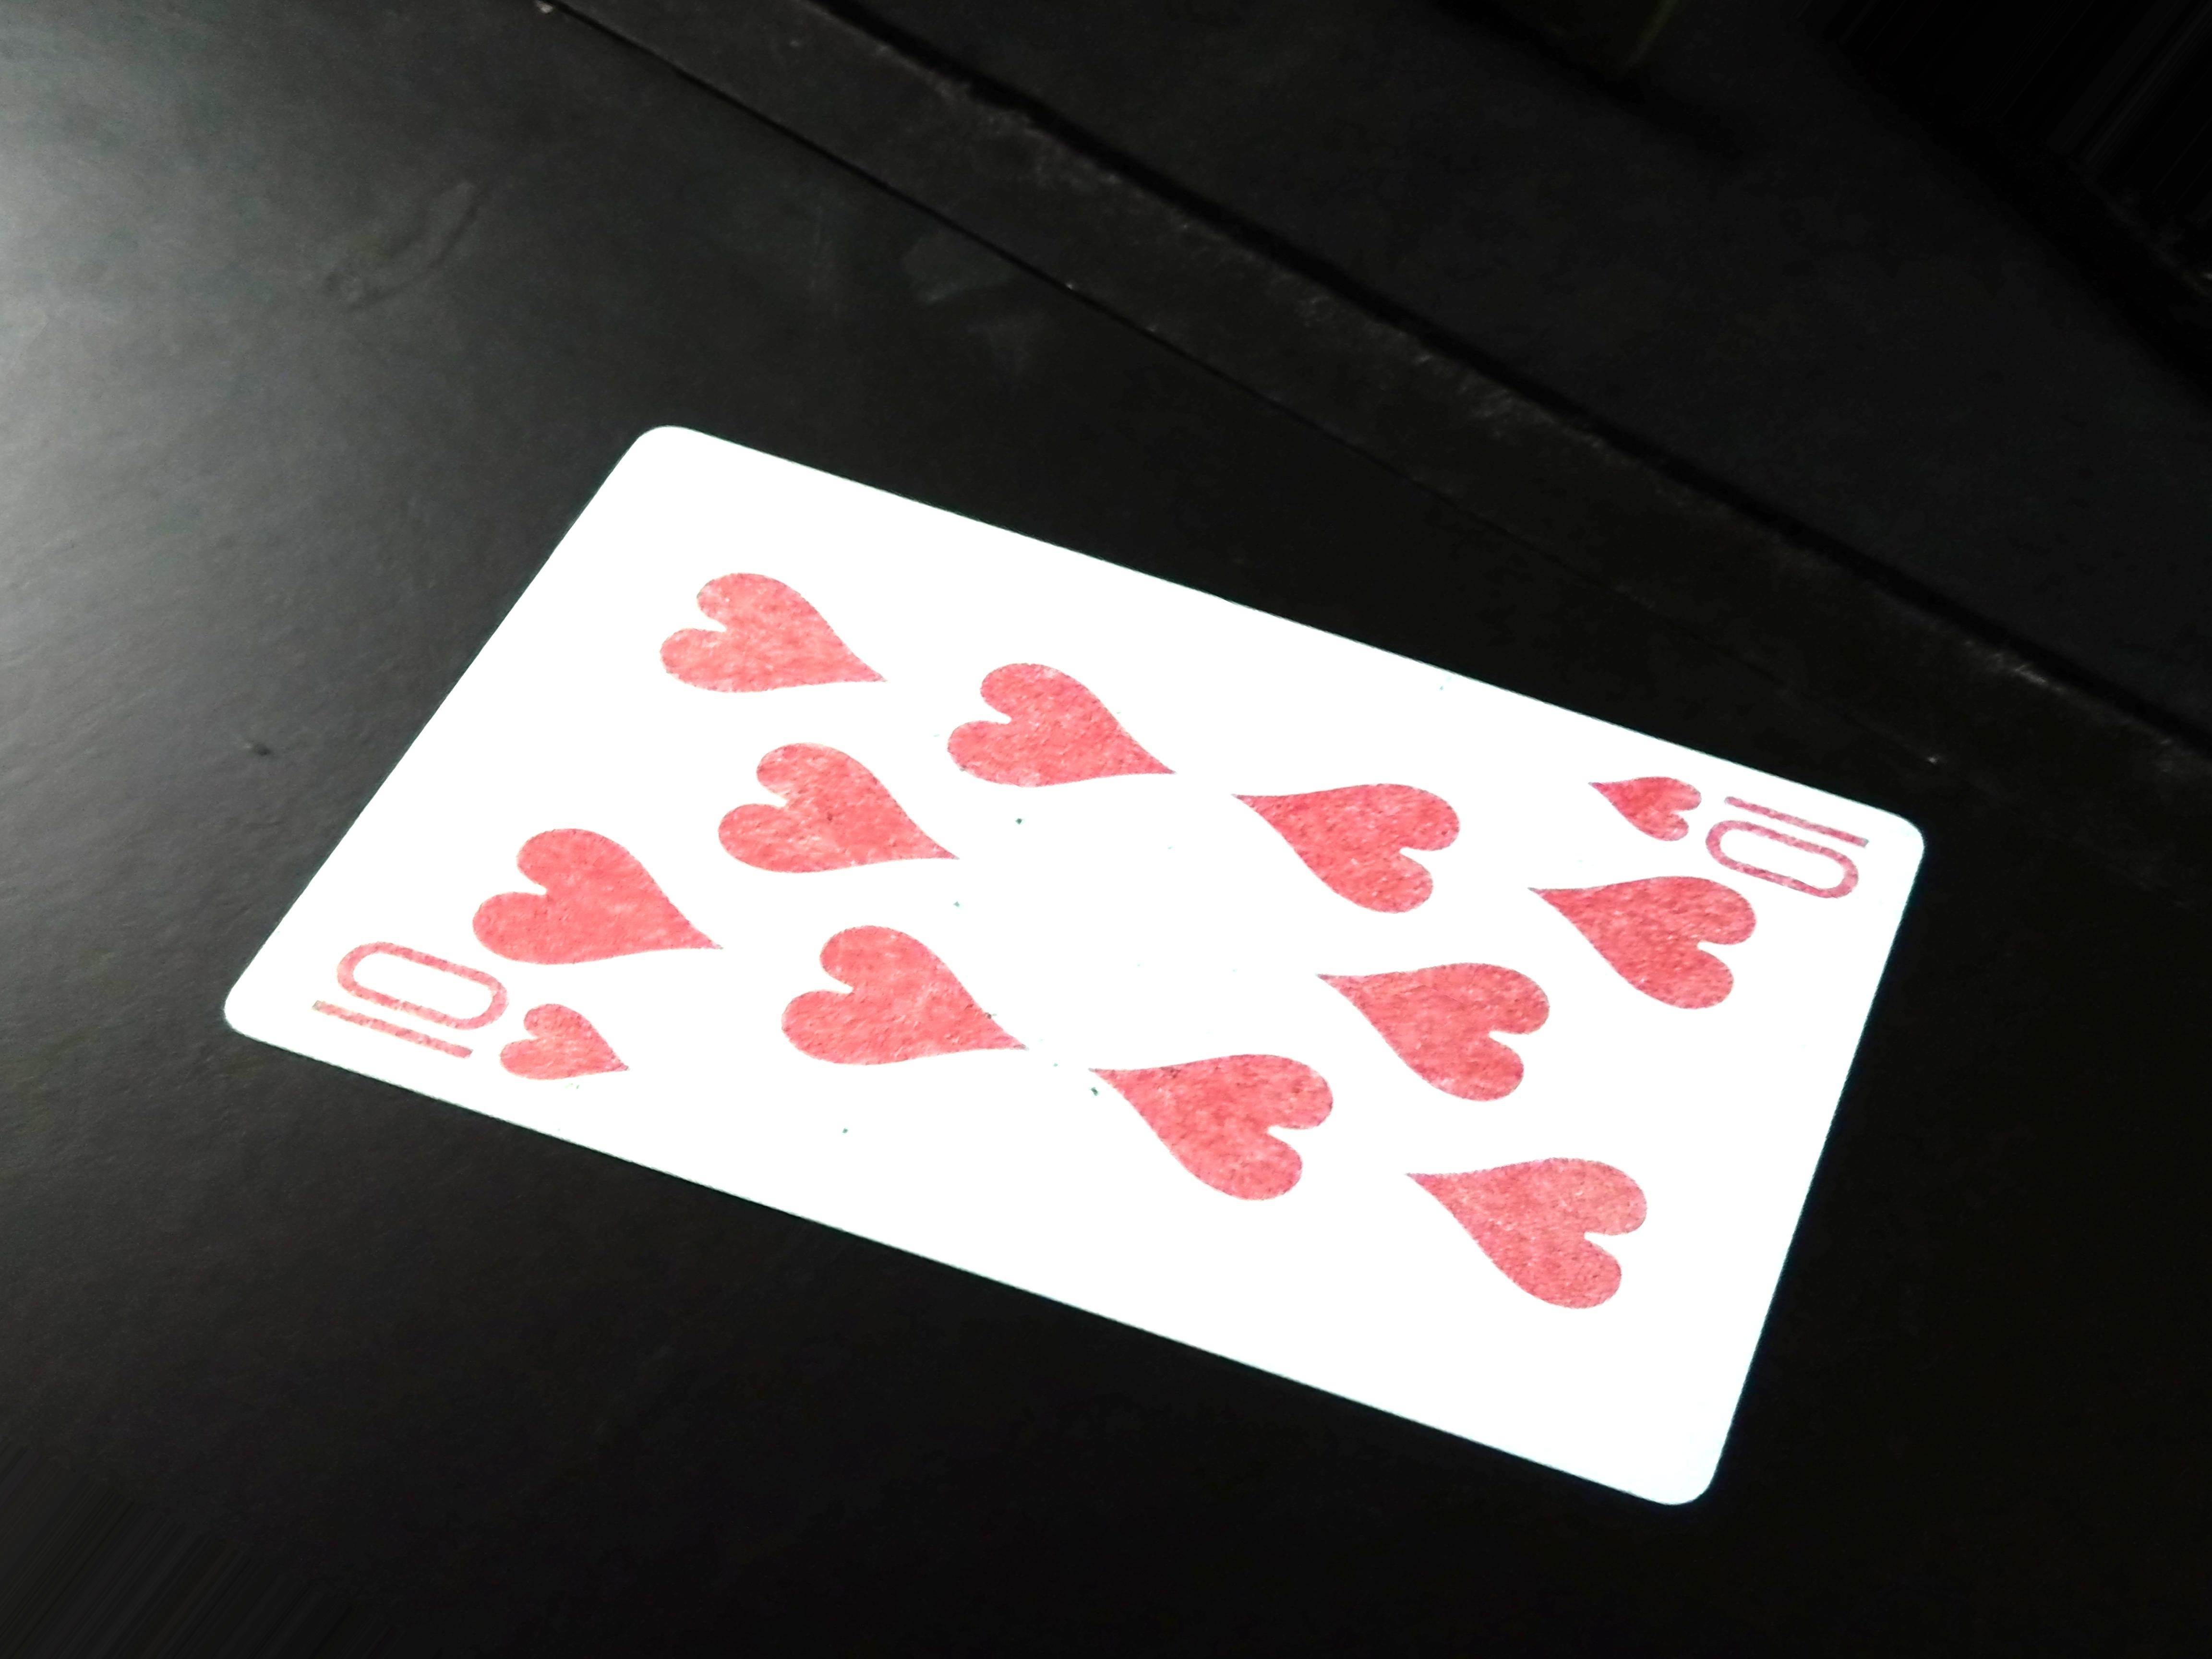10H: (301, 927, 641, 1101)
